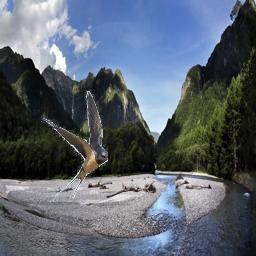Swallow: (39, 90, 108, 200)
